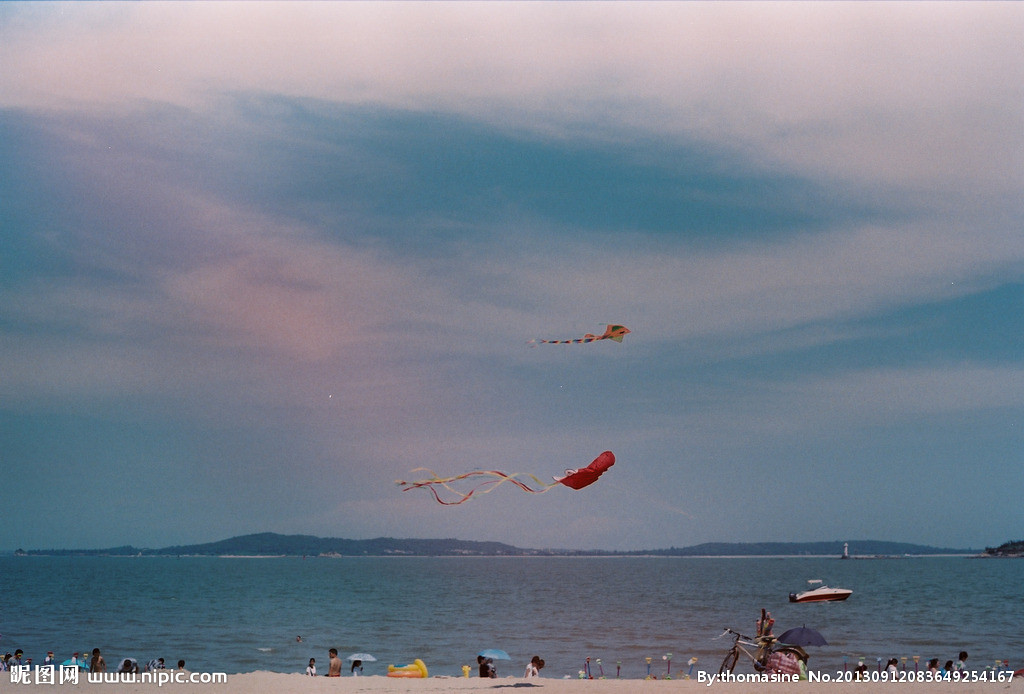kite: (396, 448, 621, 510), (523, 319, 632, 355)
